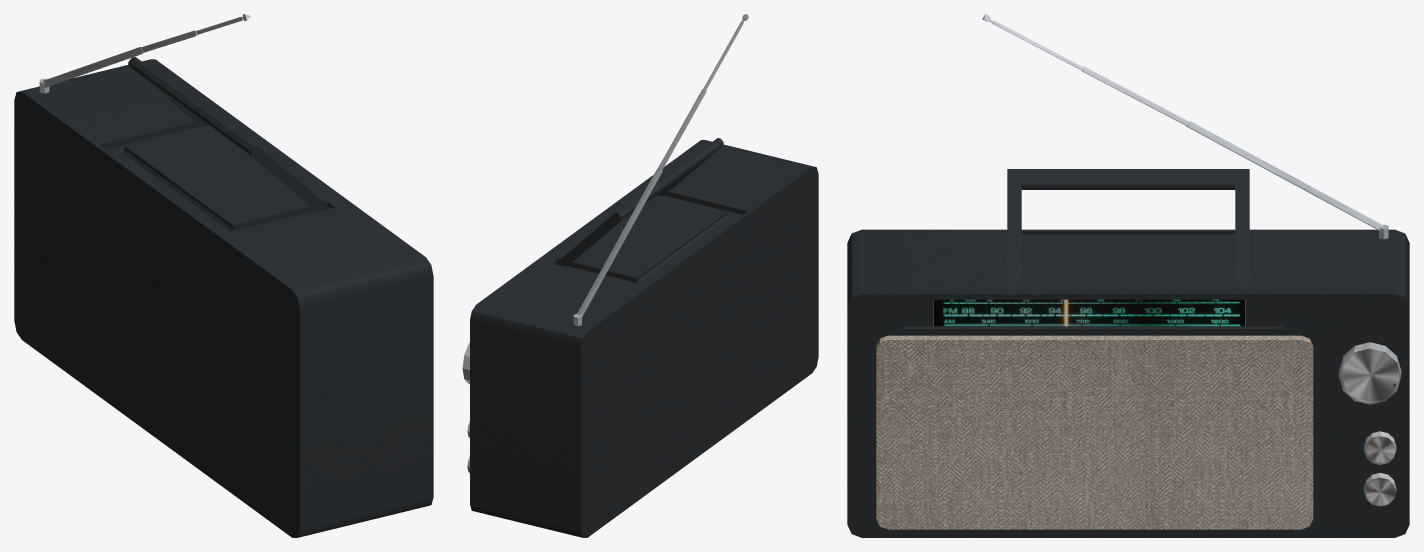
File: radio.fbx
3 views of the same model, side by side, from view 1: azimuth 30°, elevation 25°; view 2: azimuth 150°, elevation 25°; view 3: azimuth 270°, elevation 25° (orthographic). The views are drawn at different scales.
Visible parts, largest first — view 1: pCylinder8; view 2: pCylinder8; view 3: pCylinder8.
Boxes of the visible parts, bbox=[...] form: pCylinder8: bbox=[14, 14, 433, 537]; pCylinder8: bbox=[462, 14, 818, 537]; pCylinder8: bbox=[847, 14, 1409, 537].
Size of the model in its own units: 8.04 by 24.78 by 27.04.
